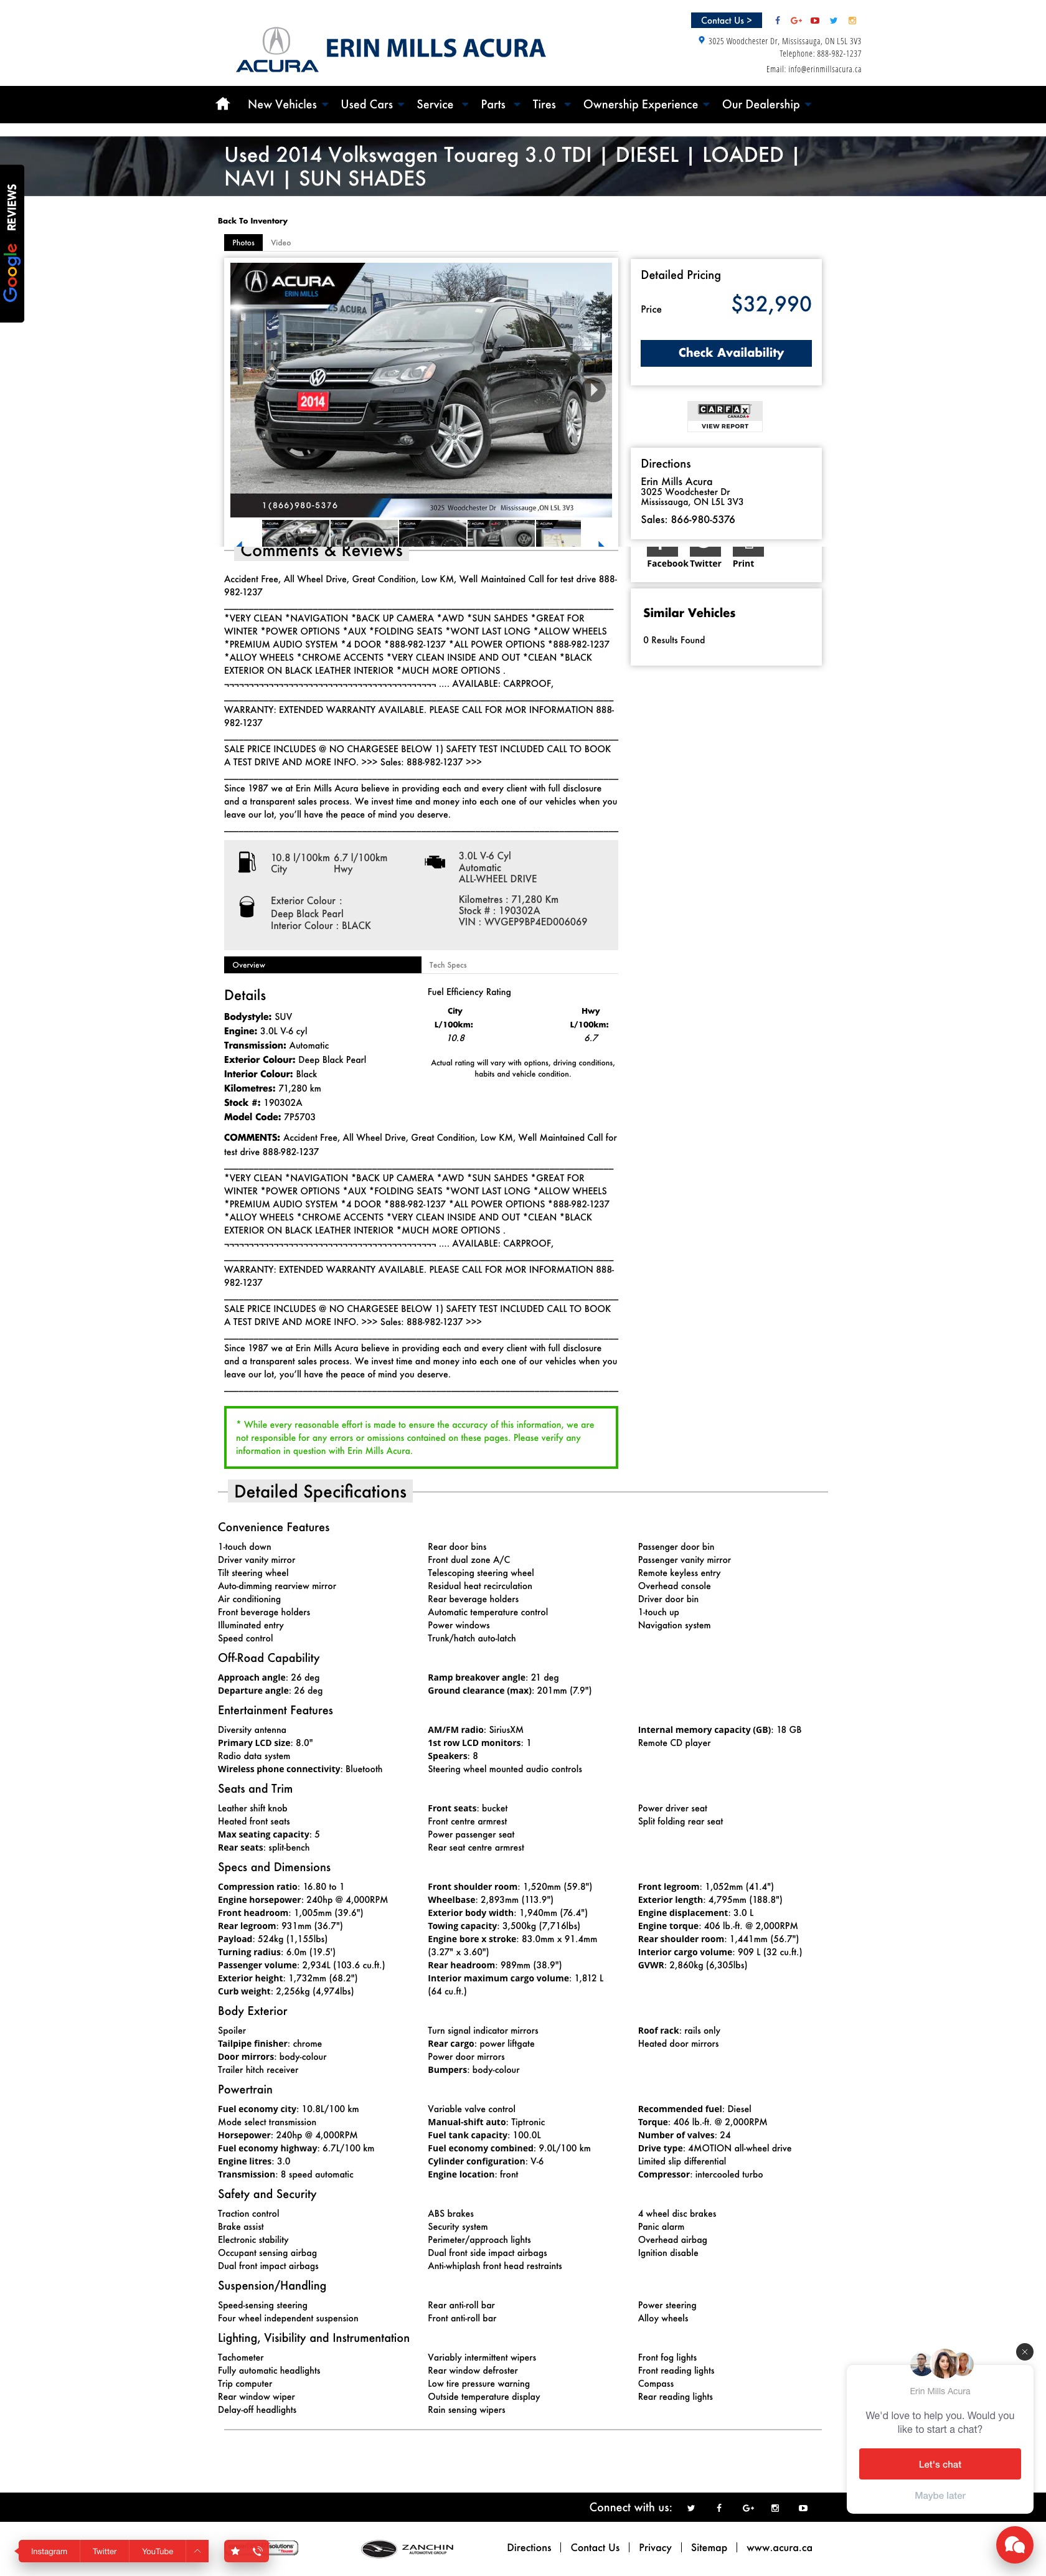car: (591, 383, 598, 398)
